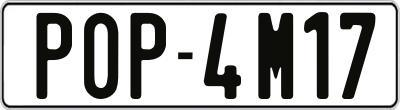0: (84, 13, 118, 105)
1: (302, 9, 331, 99)
4: (203, 10, 244, 100)
7: (337, 13, 372, 102)
M: (255, 11, 293, 98)
P: (128, 13, 167, 101), (34, 12, 70, 101)
